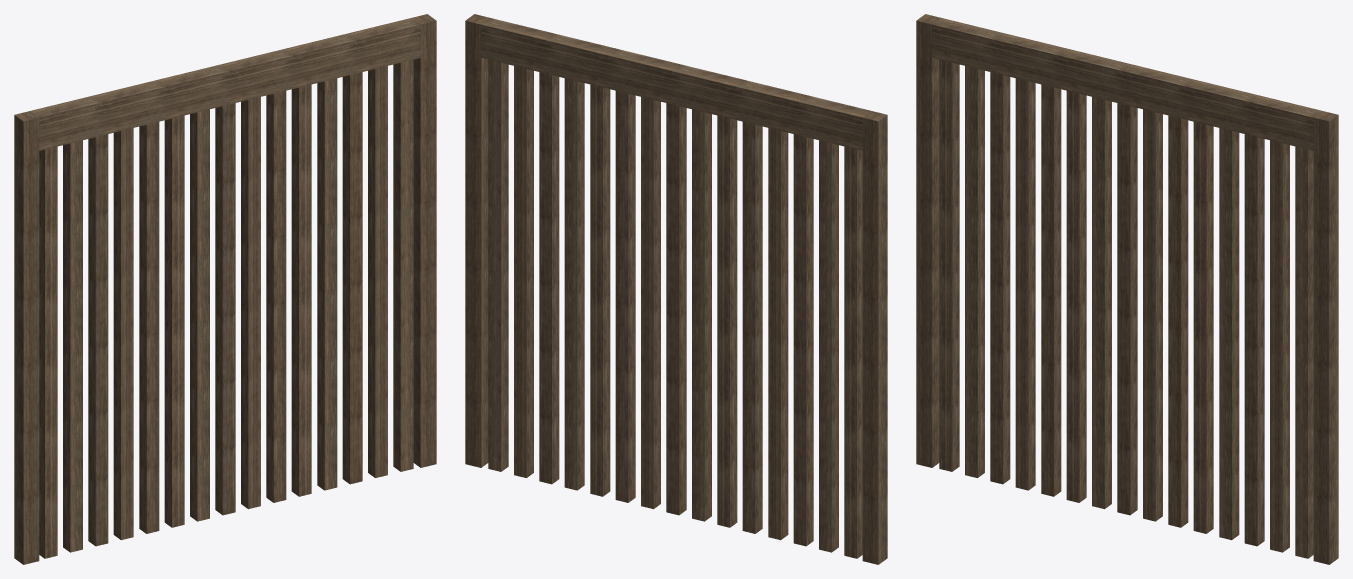
Rendered from es-slit60_h2000_brownebony.fbx.
The picture shows the model from 3 angles, left to right: view 1: azimuth 30°, elevation 25°; view 2: azimuth 150°, elevation 25°; view 3: azimuth 330°, elevation 25°; orthographic projection.
Visible parts, largest first — view 1: es-slit60_h2000_brownebony; view 2: es-slit60_h2000_brownebony; view 3: es-slit60_h2000_brownebony.
Part boxes in pixels (box(x1,y1,x2,y2)): es-slit60_h2000_brownebony: box(14, 14, 436, 564); es-slit60_h2000_brownebony: box(465, 14, 887, 564); es-slit60_h2000_brownebony: box(916, 14, 1338, 564).
Size of the model in its own units: 195 by 200 by 7.5.
1 material, 1 textured.
